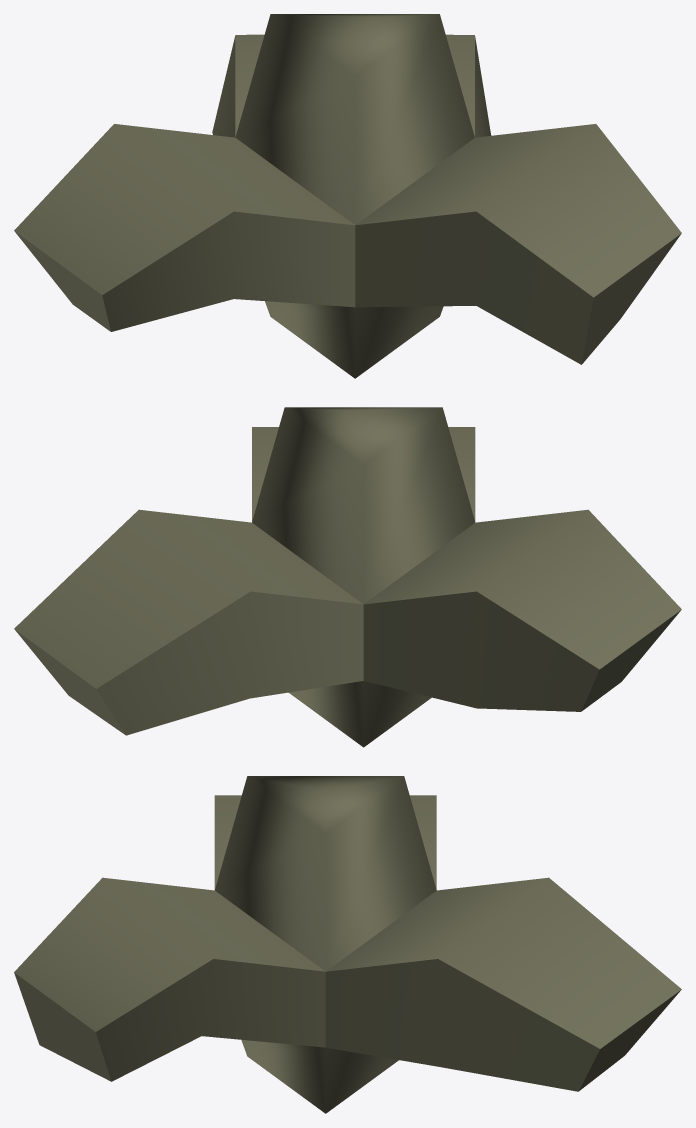
Rendered from weed.fbx.
3 renders of one model, top to bottom at view 1: azimuth 30°, elevation 25°; view 2: azimuth 150°, elevation 25°; view 3: azimuth 270°, elevation 25°, orthographic. The views are drawn at different scales.
Parts seen in each view (by area): view 1: stick1; view 2: stick1; view 3: stick1.
Boxes of the visible parts, x1,y1,x2,y2 form: stick1: (14, 14, 681, 378); stick1: (14, 407, 681, 747); stick1: (14, 776, 681, 1113).
Size of the model in its own units: 0.5263 by 0.3054 by 0.6276.
